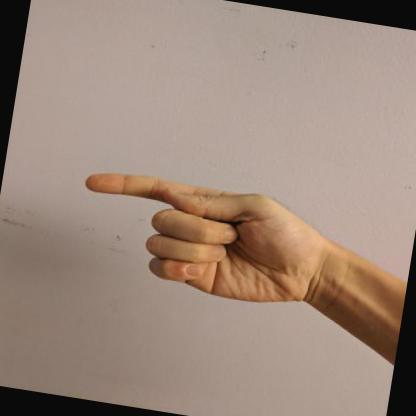G: (85, 173, 326, 308)
